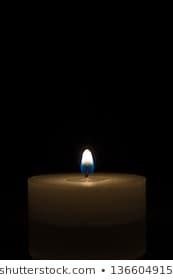fire: (78, 144, 95, 175)
